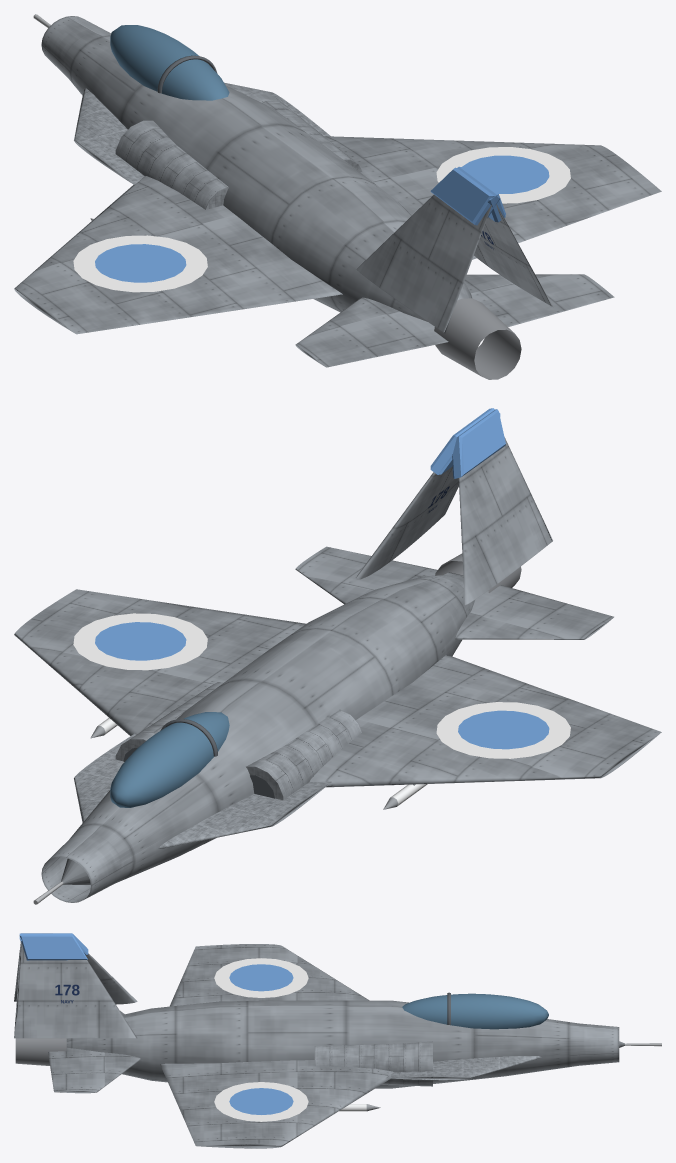
The picture shows the model from 3 angles, top to bottom: view 1: azimuth 30°, elevation 25°; view 2: azimuth 150°, elevation 25°; view 3: azimuth 270°, elevation 25°; orthographic projection. The views are drawn at different scales.
Visible parts, largest first — view 1: detail (×6), part (×5); view 2: detail (×6), part (×5); view 3: detail (×5), part (×5).
Part boxes in pixels (x1,y1,x2,y2): detail (×6): (14, 16, 661, 367); part (×5): (73, 25, 570, 379); detail (×6): (14, 437, 661, 902); part (×5): (73, 408, 570, 807); detail (×5): (14, 942, 619, 1148); part (×5): (15, 935, 548, 1121).
Bounding box in the file's own units: 13 × 4.52 × 17.83.
Materials: 15 (3 with a texture image).
